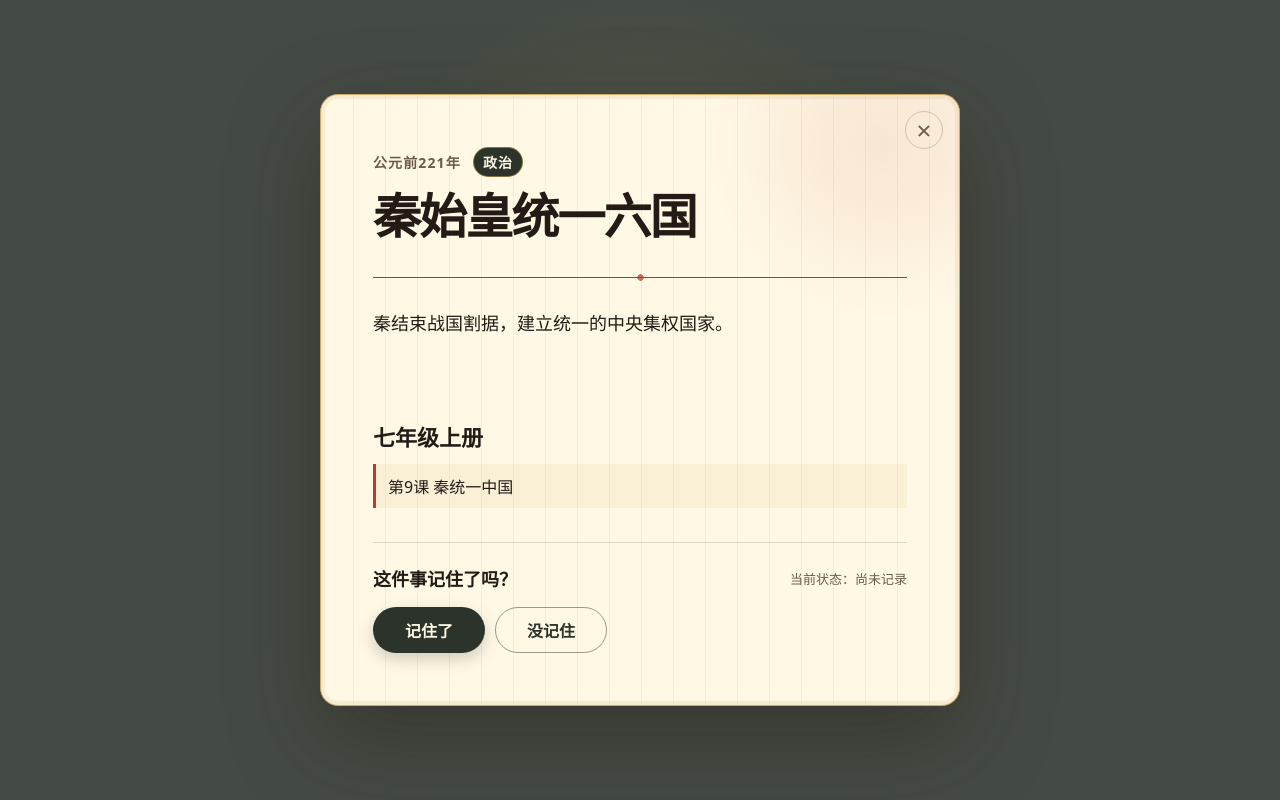
Test: RiverEventDetail › 本地保存失败时保留新增记录和当前状态并显示 store 错误
The image size is (1280, 800).
Step 1. Click the button with test id "remembered" → point(429, 630), box [373,607,485,653]
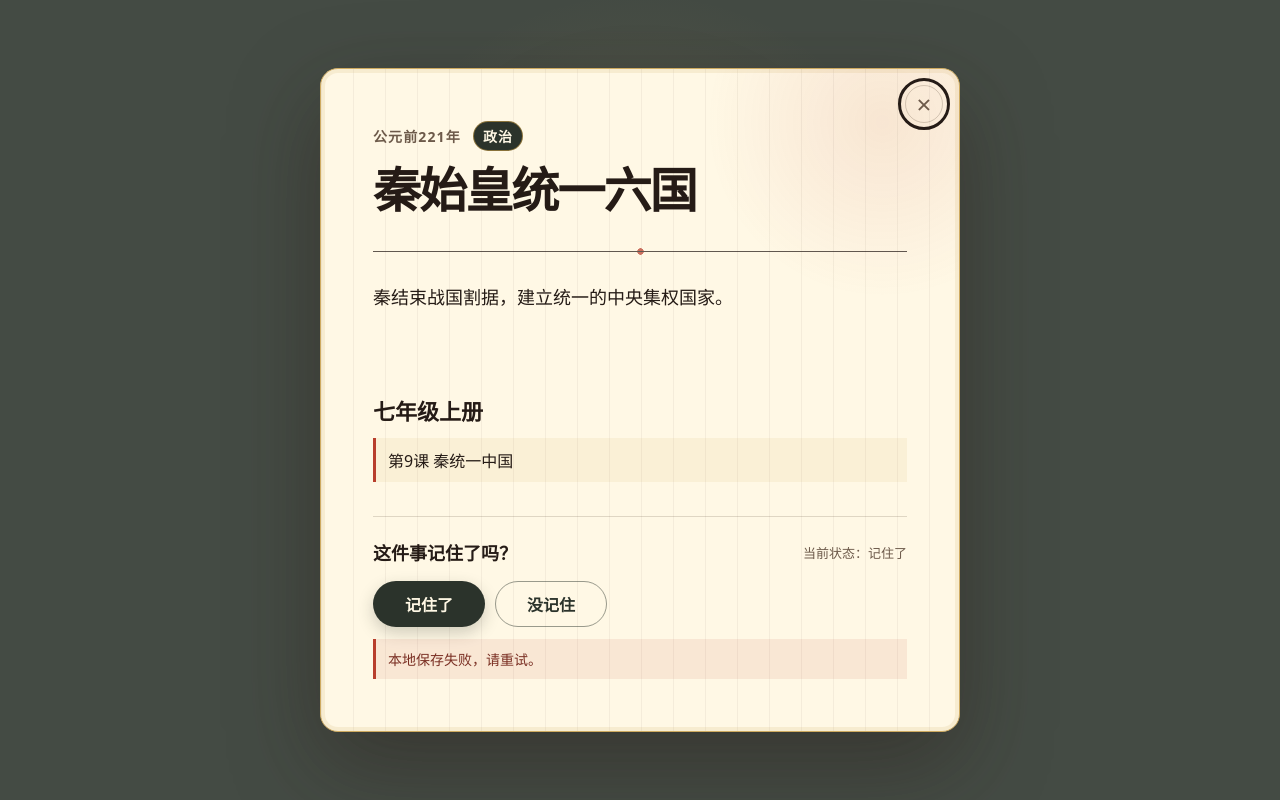
Now the text with test id "study-status" shows "记住了", box [803,544,907,562]
Now the message "本地保存失败，请重试。" is shown, box [373,639,907,679]
